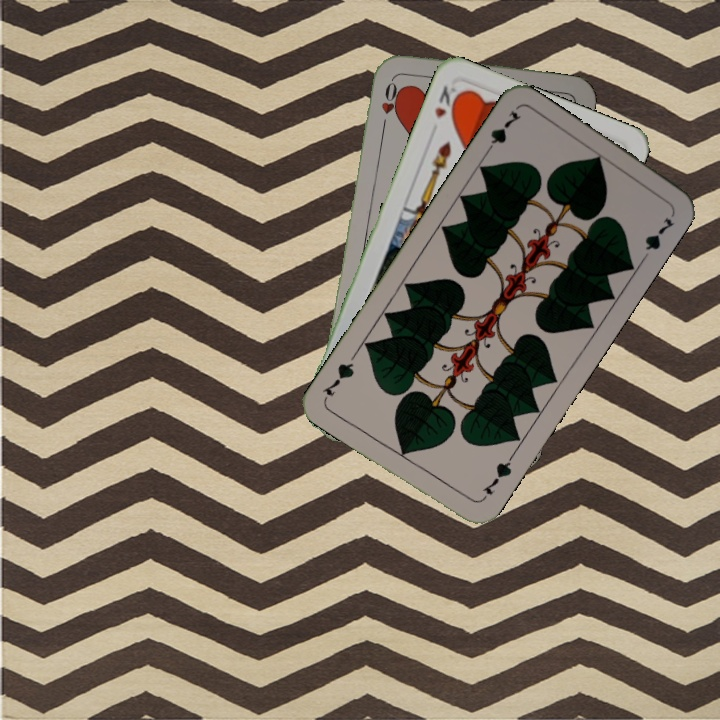G7: (480, 106, 524, 158), (476, 452, 516, 504)
HK: (430, 81, 464, 121)
HO: (377, 72, 401, 131)
